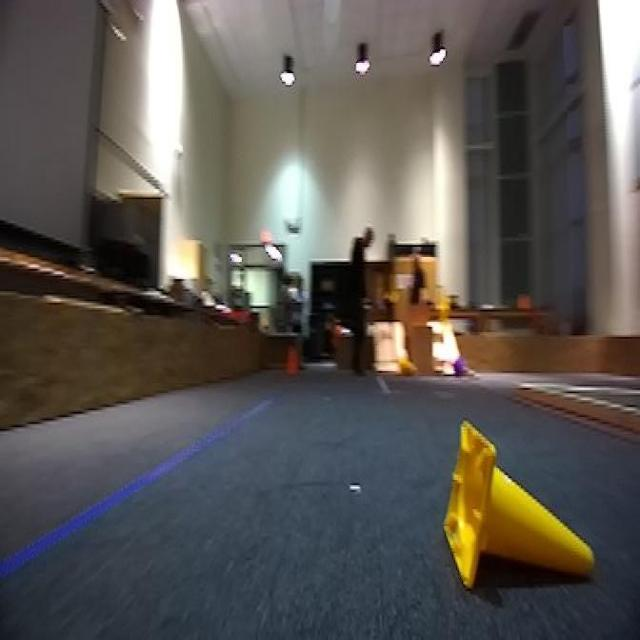frc_cone: (446, 419, 606, 587), (396, 359, 412, 380)
frc_cube: (453, 352, 468, 377)
